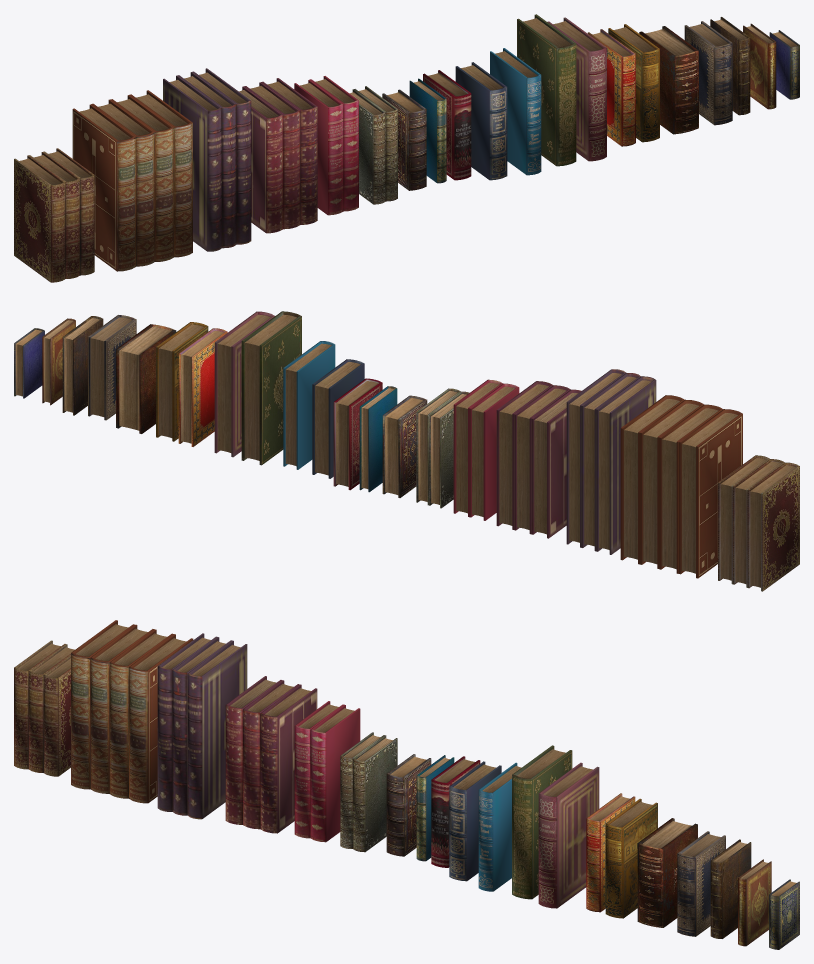
The model's file is AntiqueBooks_opt.fbx.
3 renders of one model, top to bottom at view 1: azimuth 30°, elevation 25°; view 2: azimuth 150°, elevation 25°; view 3: azimuth 330°, elevation 25°, orthographic.
Visible parts, largest first — view 1: Shelley, Waverley, Hawthorne, ContesMorau, EarthlyParadise, LawrenceStern, TreasureIsland, Elias, Sevantes, WutheringHeights, LegendeDerSciligru, HistoryOfLace (+8 smaller); view 2: Shelley, Waverley, Hawthorne, ContesMorau, EarthlyParadise, LawrenceStern, Elias, LegendeDerSciligru, TreasureIsland, Sevantes, IdyllsOfThe Mins, LeatherBack (+8 smaller); view 3: Shelley, Waverley, Hawthorne, ContesMorau, LawrenceStern, Sevantes, Elias, EarthlyParadise, LegendeDerSciligru, Burns, TreasureIsland, WutheringHeights (+8 smaller).
Boxes of the visible parts, x1,y1,x2,y2 form: Shelley: [72, 90, 192, 271]; Waverley: [163, 68, 251, 251]; Hawthorne: [239, 78, 317, 233]; ContesMorau: [14, 148, 94, 282]; EarthlyParadise: [517, 14, 576, 166]; LawrenceStern: [294, 76, 358, 215]; TreasureIsland: [490, 48, 541, 175]; Elias: [350, 86, 397, 204]; Sevantes: [547, 17, 606, 161]; WutheringHeights: [455, 62, 507, 180]; LegendeDerSciligru: [639, 26, 698, 134]; HistoryOfLace: [684, 21, 732, 125]; Shelley: [620, 395, 742, 578]; Waverley: [566, 369, 656, 554]; Hawthorne: [496, 381, 581, 538]; ContesMorau: [718, 455, 799, 591]; EarthlyParadise: [241, 311, 301, 465]; LawrenceStern: [453, 379, 519, 520]; Elias: [416, 388, 469, 508]; LegendeDerSciligru: [116, 324, 176, 433]; TreasureIsland: [283, 341, 335, 469]; Sevantes: [214, 311, 274, 457]; IdyllsOfThe Mins: [178, 328, 227, 446]; LeatherBack: [382, 395, 427, 497]; Shelley: [71, 620, 193, 803]; Waverley: [157, 633, 247, 819]; Hawthorne: [225, 676, 317, 833]; ContesMorau: [14, 640, 74, 776]; LawrenceStern: [294, 701, 360, 842]; Sevantes: [538, 762, 599, 908]; Elias: [340, 732, 397, 852]; EarthlyParadise: [512, 745, 572, 899]; LegendeDerSciligru: [637, 818, 697, 927]; Burns: [605, 798, 657, 918]; TreasureIsland: [478, 762, 521, 891]; WutheringHeights: [449, 761, 501, 881].
Bounding box in the file's own units: 172 × 30.7 × 20.24.
